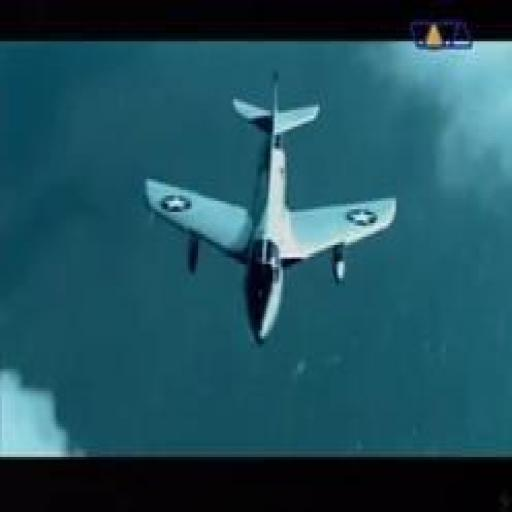aircraft: (144, 72, 398, 344)
